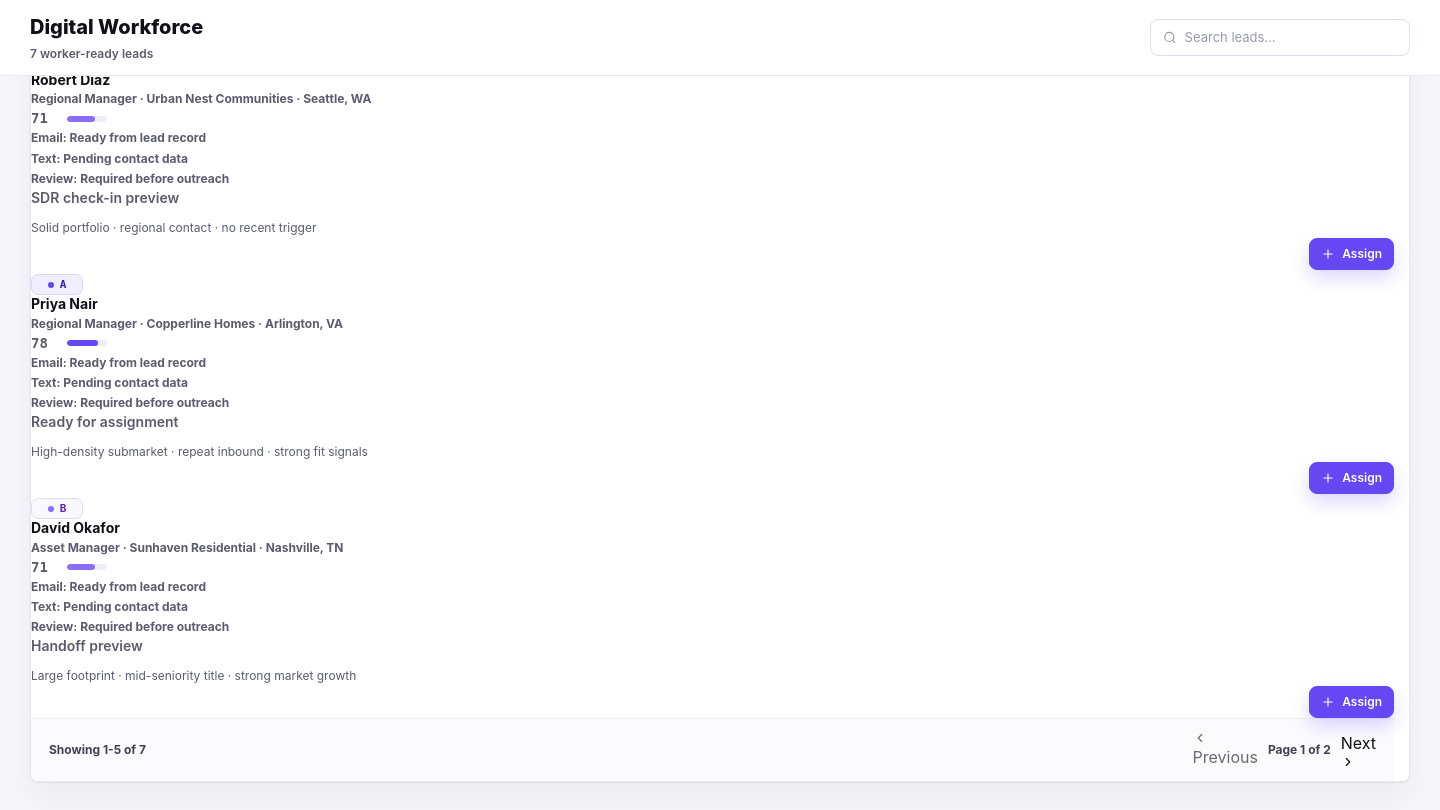
Digital Workforce views › paginates worker-ready handoffs
(page scrolled)
Check: the text "Showing 1-5 of 7" is shown, box left=49, top=741, right=146, bottom=759
Check: the text "Lin Zhao" is not shown
Click the button with aria-label "Next page" at (1358, 750), box left=1341, top=731, right=1376, bottom=769
(page scrolled)
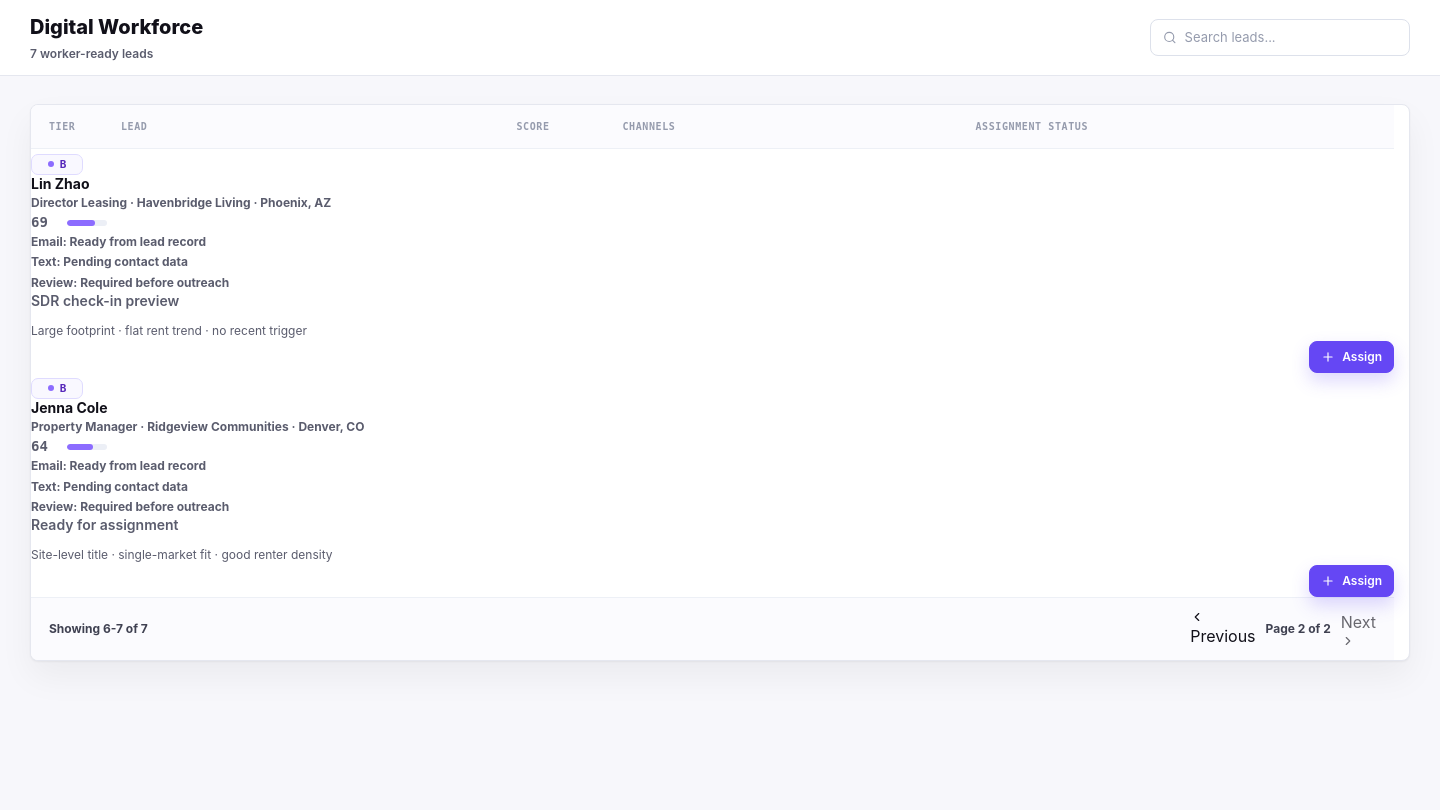
Check: the text "Showing 6-7 of 7" is shown, box left=49, top=620, right=148, bottom=638
Check: the text "Lin Zhao" is shown, box left=31, top=174, right=90, bottom=192
